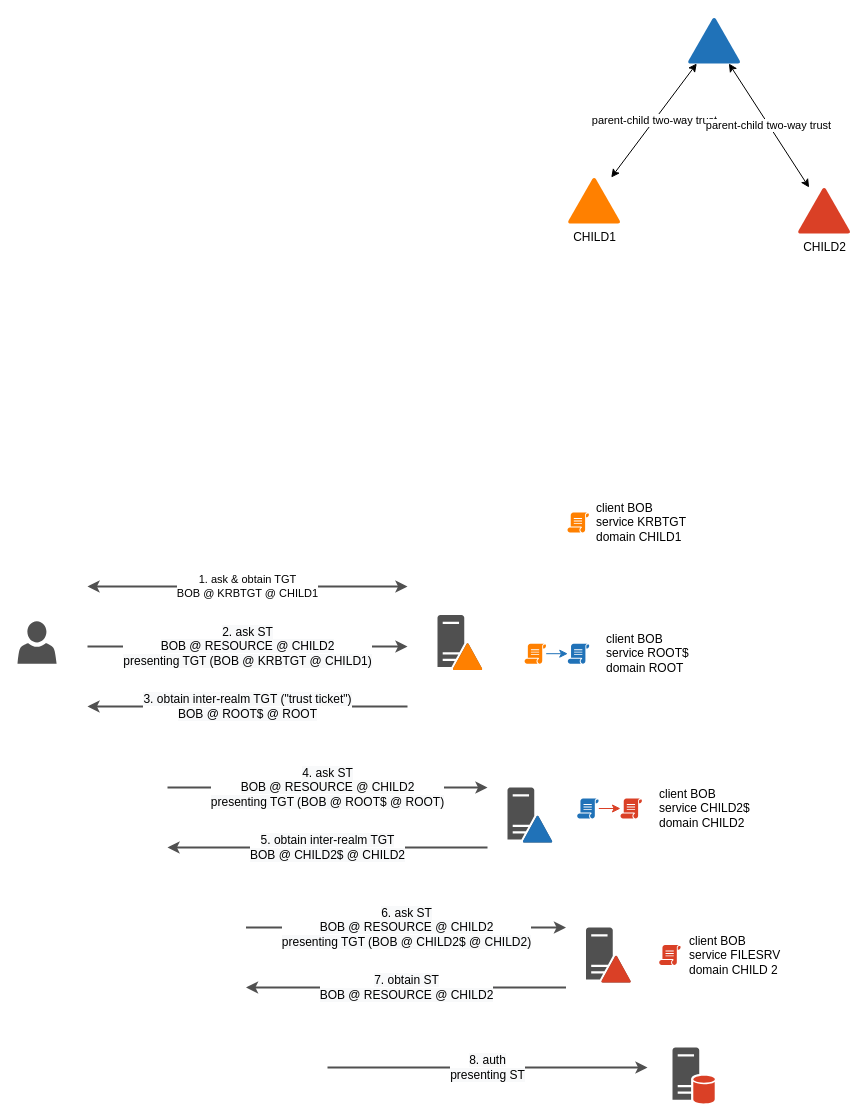
Image size: 867x1120. Some labels were removed from this diagram. The box of each missing label's shape, as (x1, y1, x2, y2) in pixels:
bob: (17, 621, 56, 663)
ROOT: (687, 17, 740, 63)
